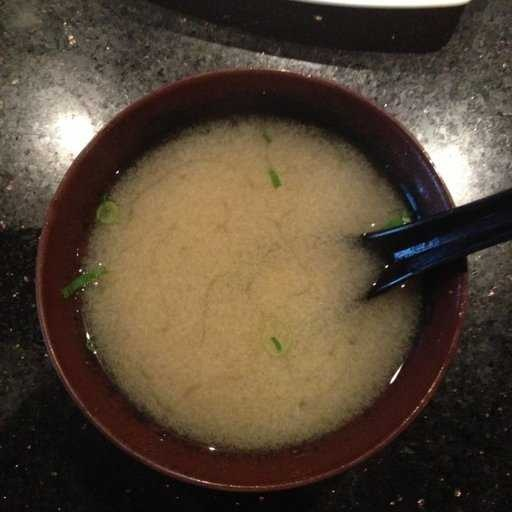soup: (60, 111, 444, 454)
